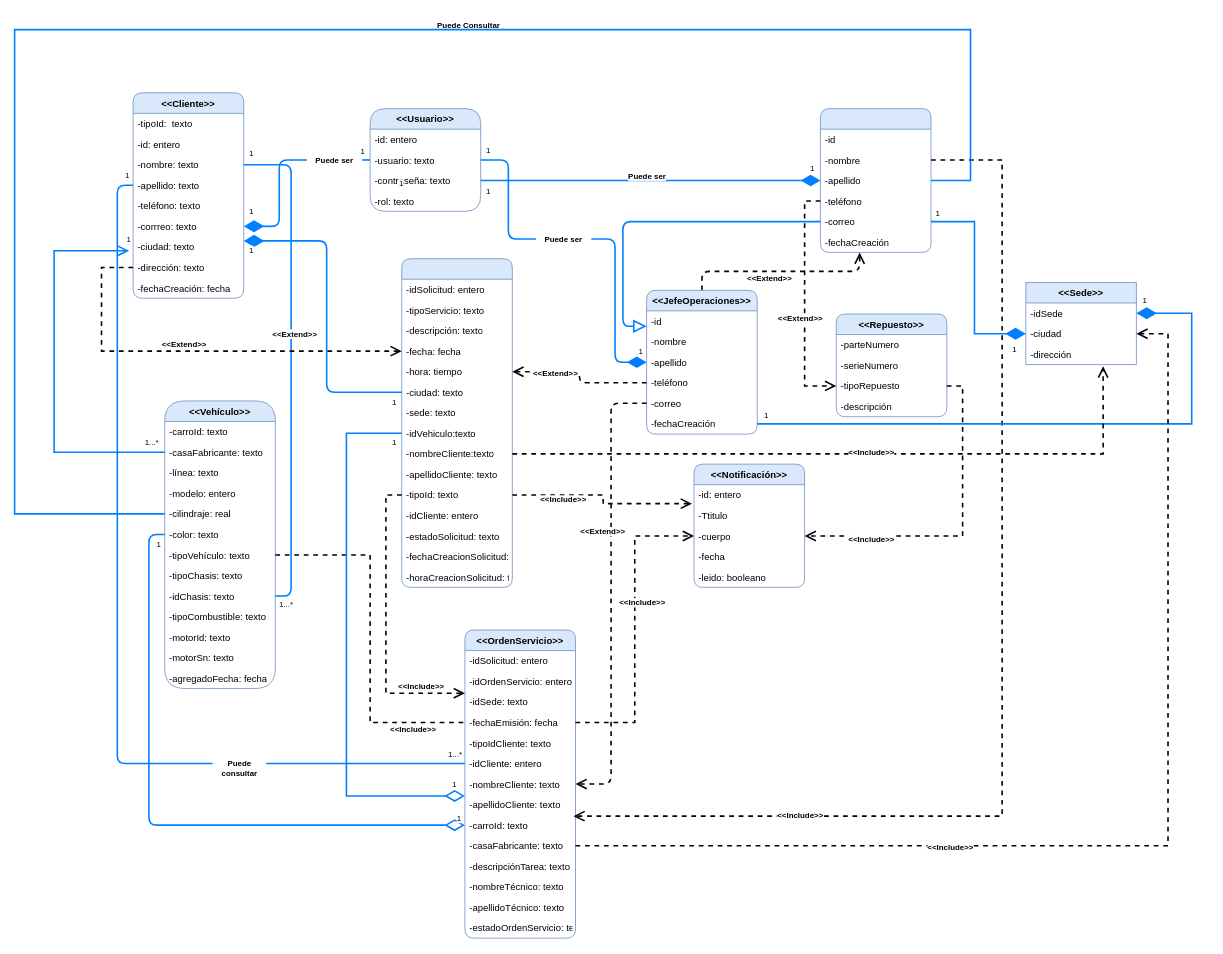
This 1223x954 diagram has some shape labels left out. Each missing label, with the box of its shape:
<<SolicitudServicio>>: (401, 258, 512, 587)
<<Técnico>>: (820, 108, 931, 252)
